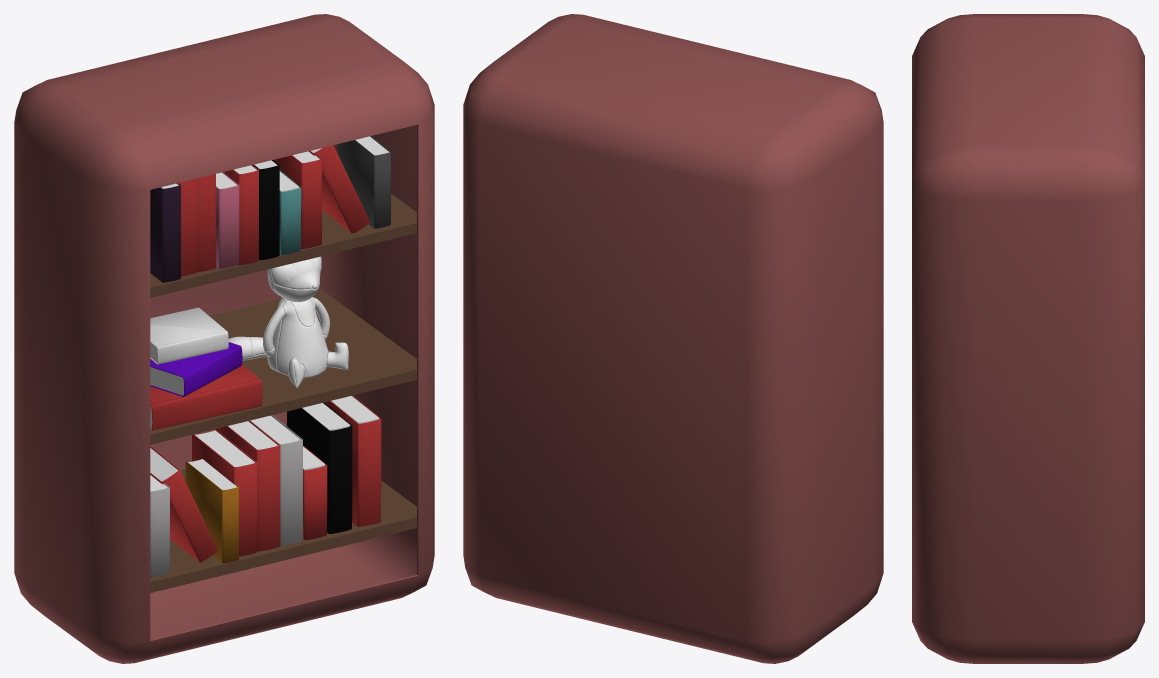
File: bibliotheque.fbx
The picture shows the model from 3 angles, left to right: view 1: azimuth 30°, elevation 25°; view 2: azimuth 150°, elevation 25°; view 3: azimuth 270°, elevation 25°; orthographic projection. The views are drawn at different scales.
Parts seen in each view (by area): view 1: ChamferBox001, Box002, obj:default1, Box003, Box001, Line012, Line022, Line023, Line014, Line010, Line019, Line017 (+21 smaller); view 2: ChamferBox001; view 3: ChamferBox001.
Part boxes in pixels (x1=…): ChamferBox001: x1=14, y1=14, x2=434, y2=663; Box002: x1=150, y1=289, x2=416, y2=444; obj:default1: x1=228, y1=256, x2=348, y2=388; Box003: x1=150, y1=469, x2=416, y2=592; Box001: x1=150, y1=193, x2=416, y2=297; Line012: x1=150, y1=364, x2=262, y2=430; Line022: x1=287, y1=402, x2=352, y2=533; Line023: x1=324, y1=395, x2=381, y2=526; Line014: x1=150, y1=307, x2=228, y2=364; Line010: x1=337, y1=136, x2=390, y2=228; Line019: x1=216, y1=420, x2=280, y2=551; Line017: x1=185, y1=461, x2=238, y2=563; ChamferBox001: x1=463, y1=14, x2=883, y2=663; ChamferBox001: x1=912, y1=14, x2=1144, y2=663.
Size of the model in its own units: 11.26 by 16.62 by 6.81.
